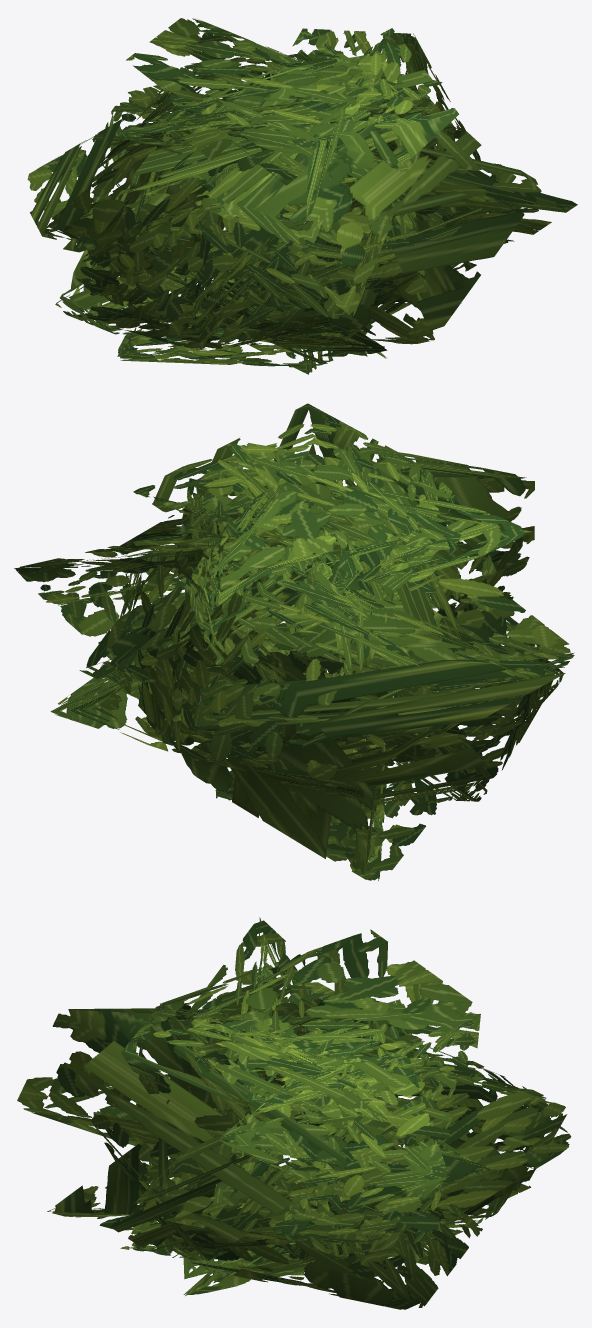
The model's file is bush.glb.
3 renders of one model, top to bottom at view 1: azimuth 30°, elevation 25°; view 2: azimuth 150°, elevation 25°; view 3: azimuth 270°, elevation 25°, orthographic. The views are drawn at different scales.
Visible parts, largest first — view 1: bush; view 2: bush; view 3: bush.
Boxes of the visible parts, x1,y1,x2,y2 form: bush: (27,18,577,374); bush: (14,403,574,881); bush: (17,917,571,1309).
Bounding box in the file's own units: 2.1 × 1.41 × 2.22.
Materials: 1 (1 with a texture image).
